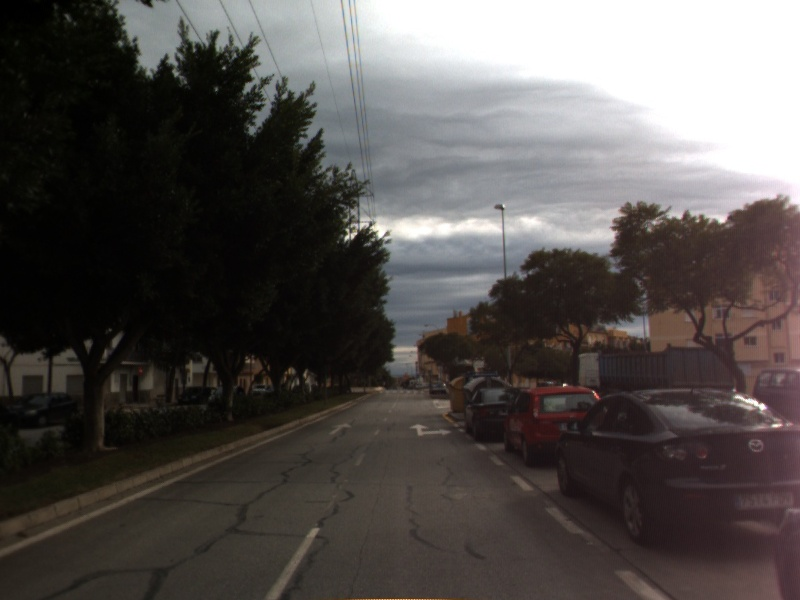STRAIGHT: (326, 420, 355, 437)
STRAIGHT_RIGHT: (407, 421, 455, 438)
